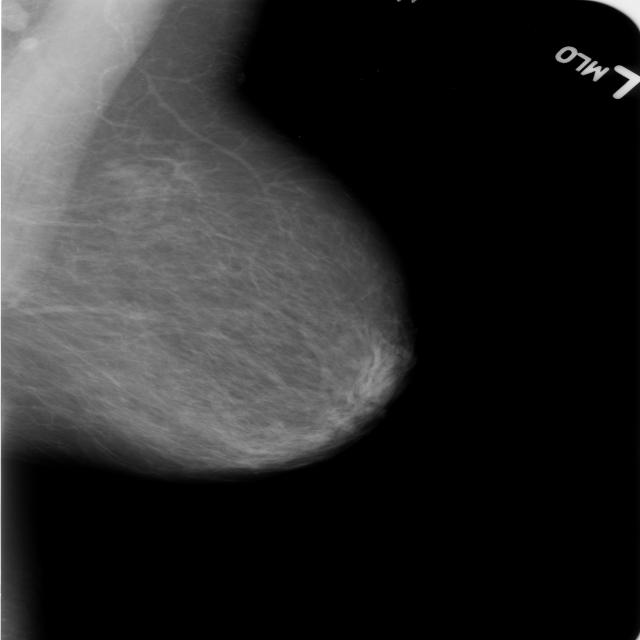normal: (0, 17, 443, 489)
